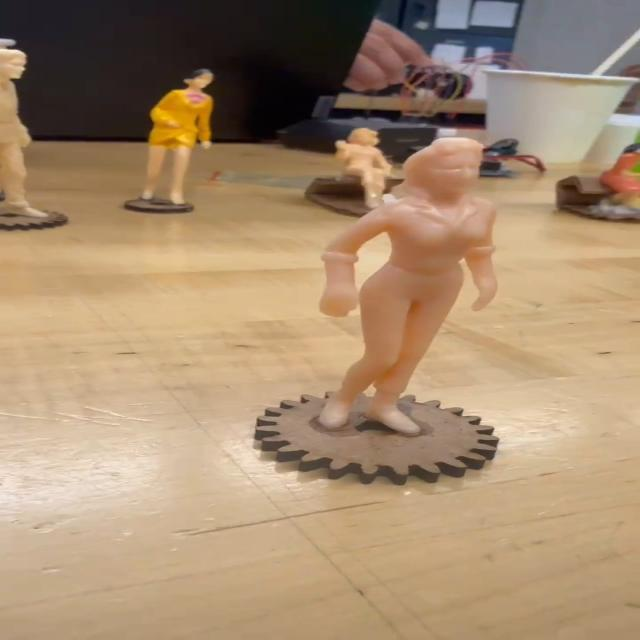Unauthorized: (280, 128, 573, 462)
